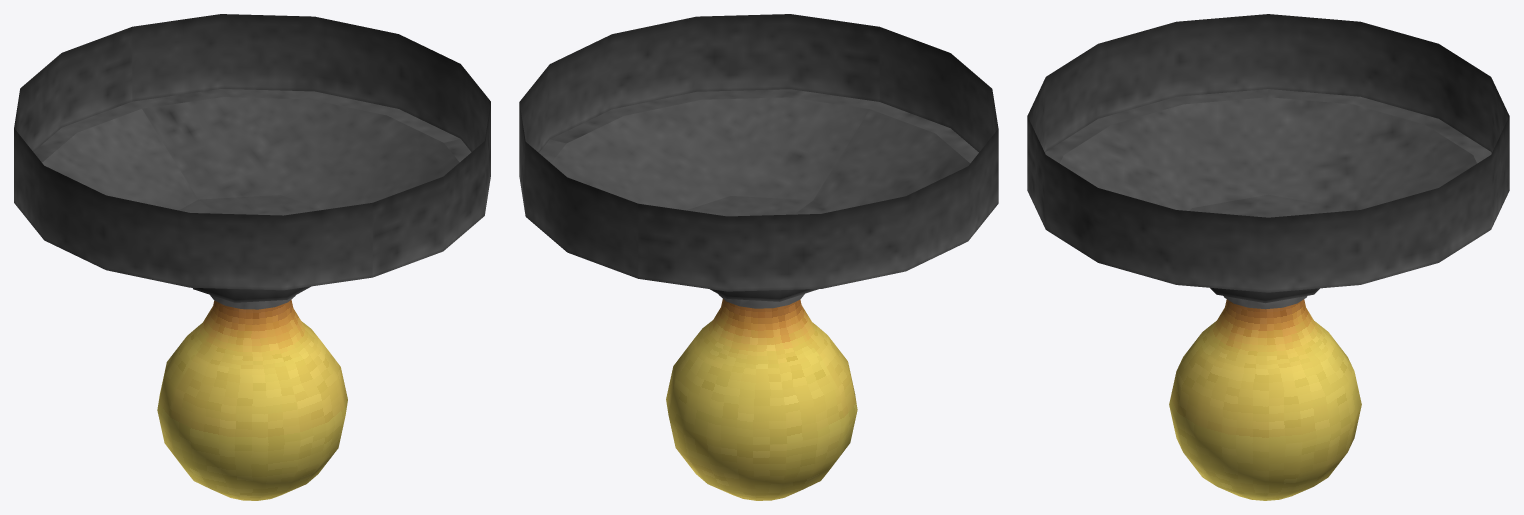
Rendered from ceiling_lamp_mp_1_on.dae.
The picture shows the model from 3 angles, left to right: view 1: azimuth 30°, elevation 25°; view 2: azimuth 150°, elevation 25°; view 3: azimuth 270°, elevation 25°; orthographic projection.
Visible parts, largest first — view 1: ceiling_lamp_mp_1_on; view 2: ceiling_lamp_mp_1_on; view 3: ceiling_lamp_mp_1_on.
Part boxes in pixels (x1=…): ceiling_lamp_mp_1_on: x1=14, y1=14, x2=490, y2=500; ceiling_lamp_mp_1_on: x1=519, y1=14, x2=998, y2=500; ceiling_lamp_mp_1_on: x1=1027, y1=14, x2=1509, y2=500.
Bounding box in the file's own units: 0.215 × 0.215 × 0.1855.
2 materials, 2 textured.
